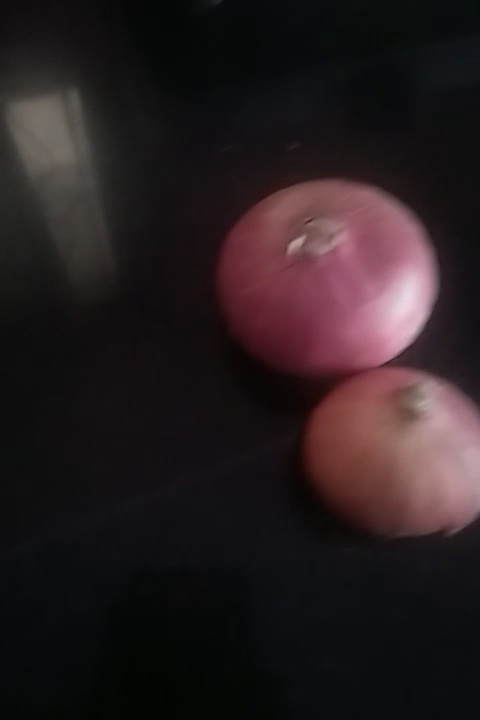onion: (216, 184, 443, 369), (303, 368, 480, 557)
